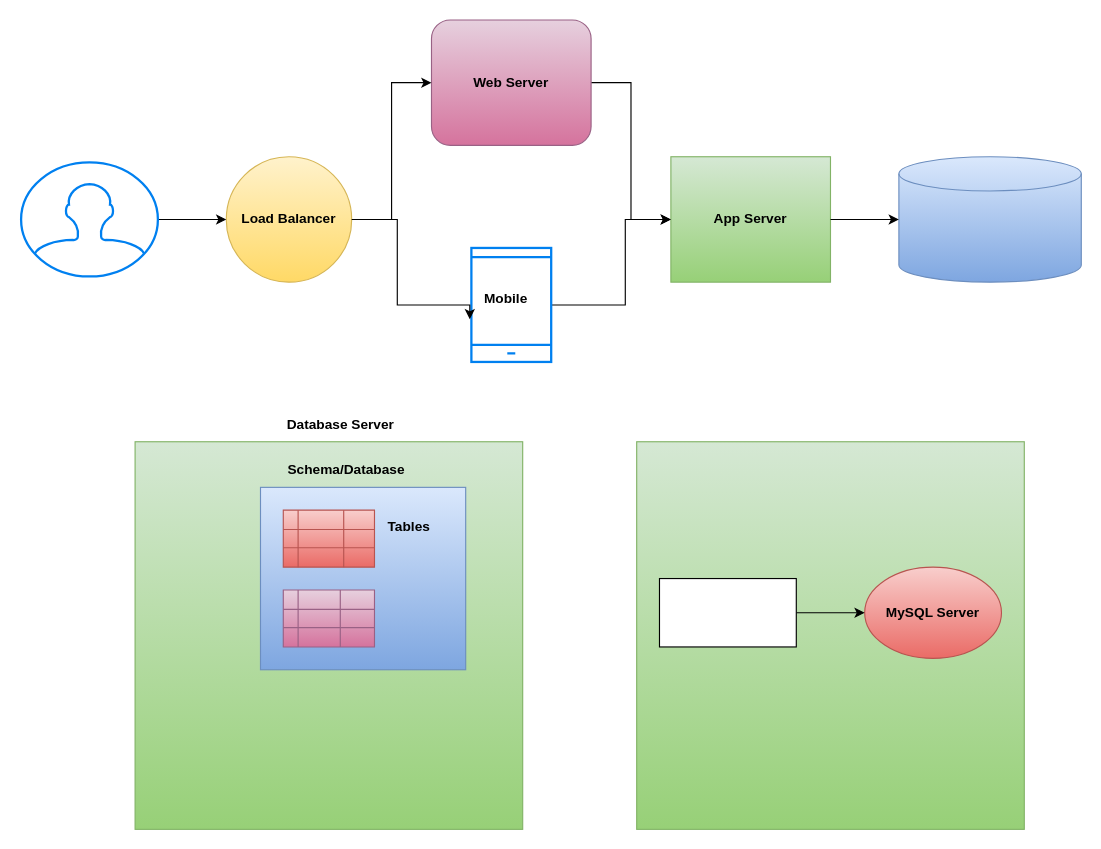
The diagram is 1101 pixels wide and 849 high, and some of its shapes have lost their labels. The shapes that lost their labels are listed below. From the top down, each one's box as (x1, y1, x2, y2) in pixels, then its label:
(898, 156, 1081, 282): DB Server
(658, 577, 796, 647): Client
